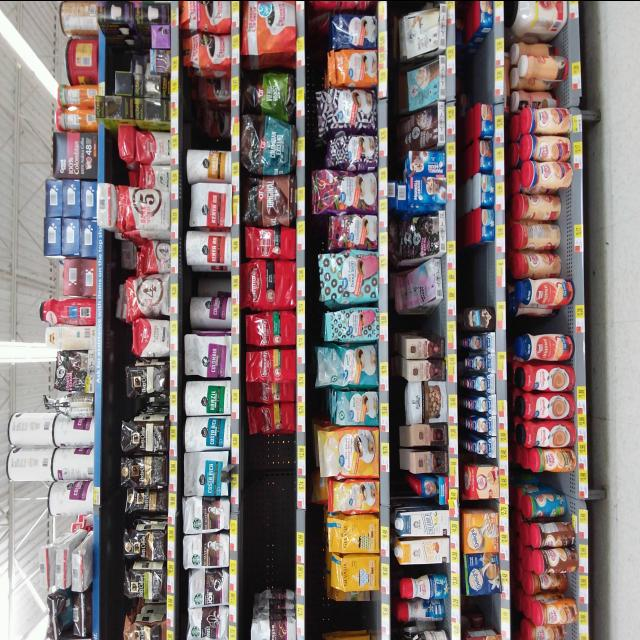empty_space: (242, 433, 299, 587), (185, 77, 233, 151), (457, 33, 494, 103), (460, 243, 490, 309), (321, 597, 375, 631), (399, 312, 445, 336), (526, 307, 574, 330), (530, 469, 577, 489)
